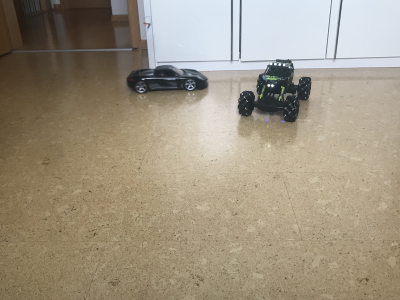remote control car: (237, 56, 313, 122)
